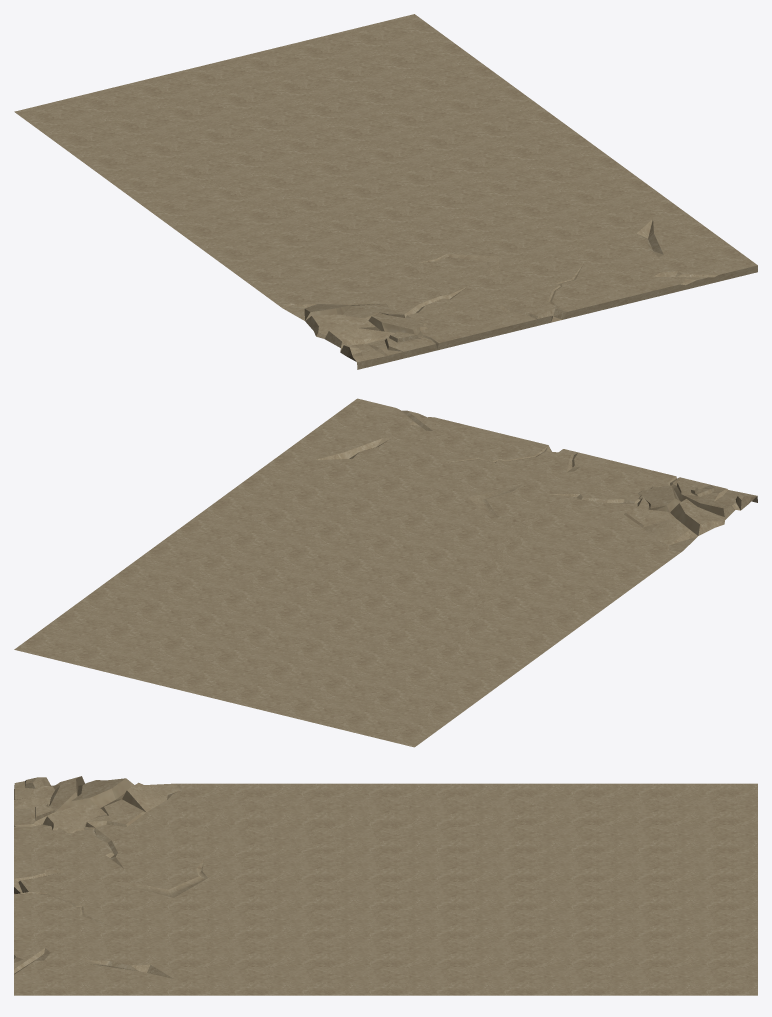
File: Steps12_Build_LostTemple_001.FBX
3 renders of one model, top to bottom at view 1: azimuth 30°, elevation 25°; view 2: azimuth 150°, elevation 25°; view 3: azimuth 270°, elevation 25°, orthographic. The views are drawn at different scales.
Parts seen in each view (by area): view 1: Steps12_Build_LostTemple_001; view 2: Steps12_Build_LostTemple_001; view 3: Steps12_Build_LostTemple_001.
Part boxes in pixels (x1,y1,x2,y2): Steps12_Build_LostTemple_001: (14,14,757,369); Steps12_Build_LostTemple_001: (14,398,757,747); Steps12_Build_LostTemple_001: (14,776,757,995).
Bounding box in the file's own units: 1933 × 73 × 2841.
Materials: 1 (1 with a texture image).
